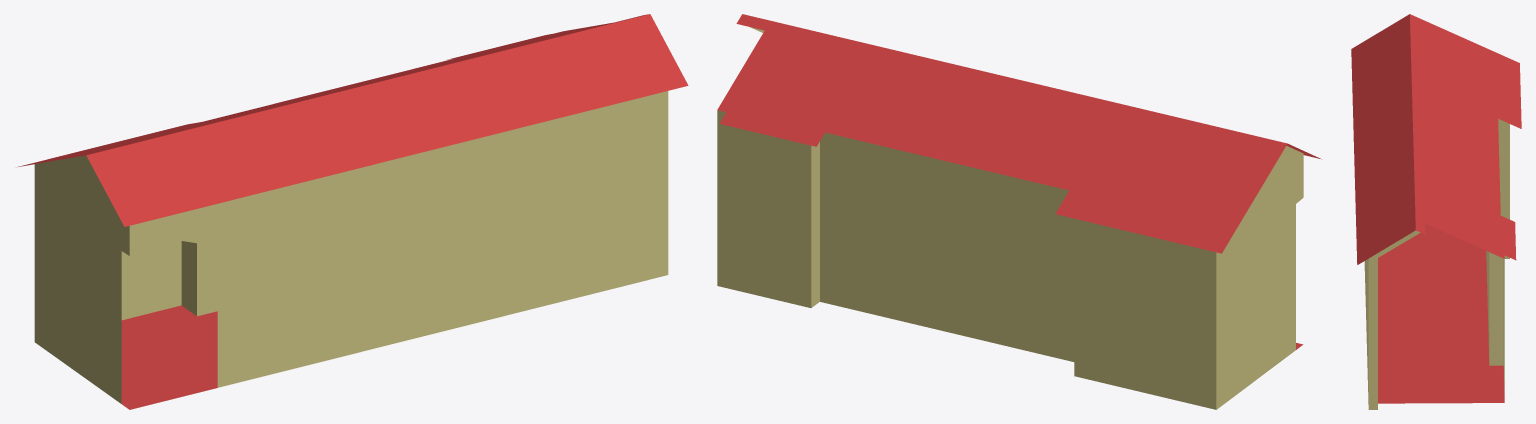
3 views of the same model, side by side, from view 1: azimuth 30°, elevation 25°; view 2: azimuth 150°, elevation 25°; view 3: azimuth 270°, elevation 25° (orthographic). The views are drawn at different scales.
Bounding box in the file's own units: 44.47 × 14.75 × 17.59.
